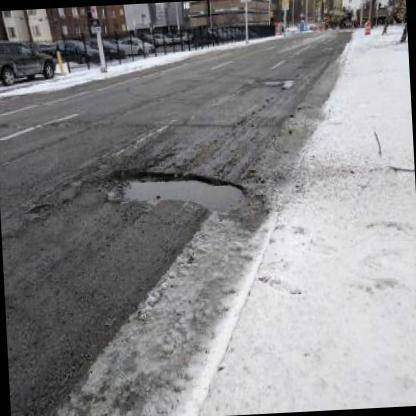pothole: (108, 166, 248, 218)
